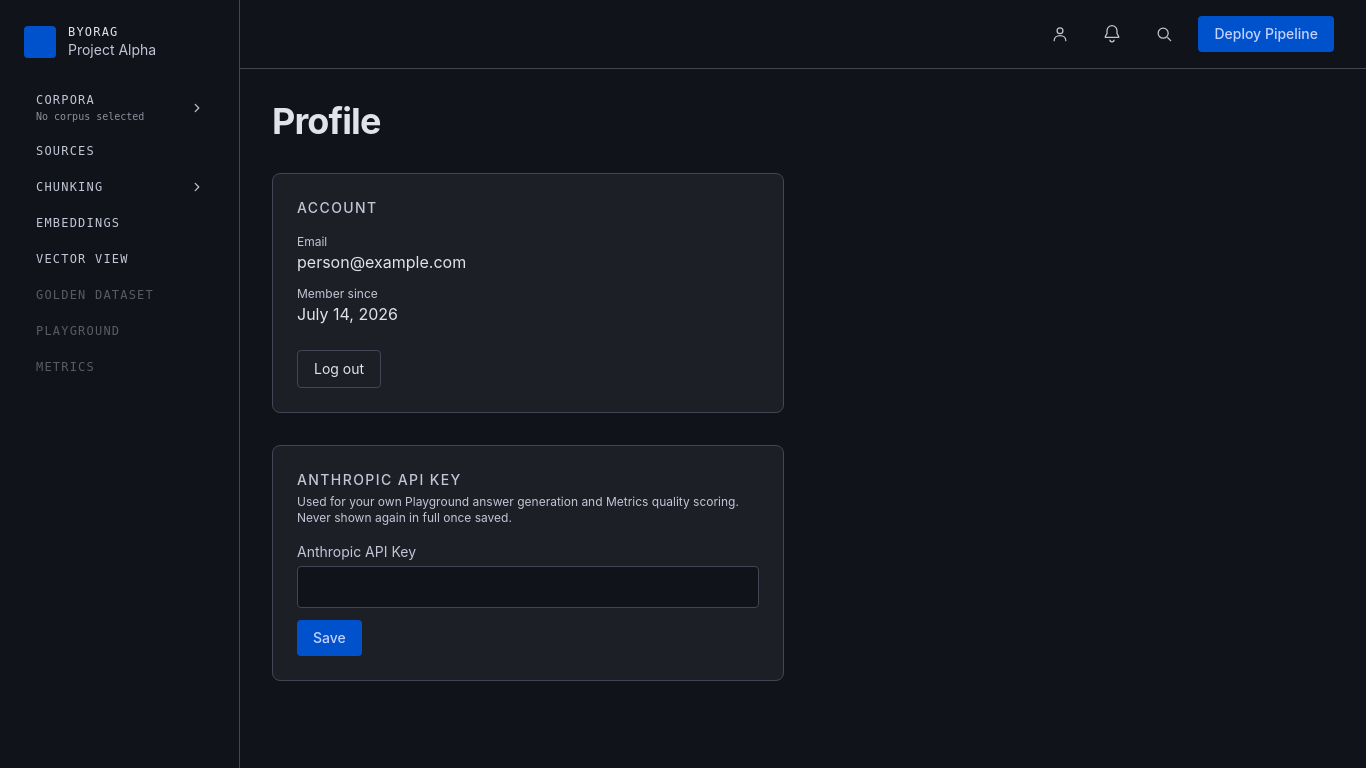
Test: ProfileScreen — Anthropic key form (US2) › shows an inline error and keeps the input on a rejected (invalid) key, without clearing it
Type "sk-ant-badxxxx" into the password field labelled "Anthropic API Key" at [528, 587], box [297,566,759,608]
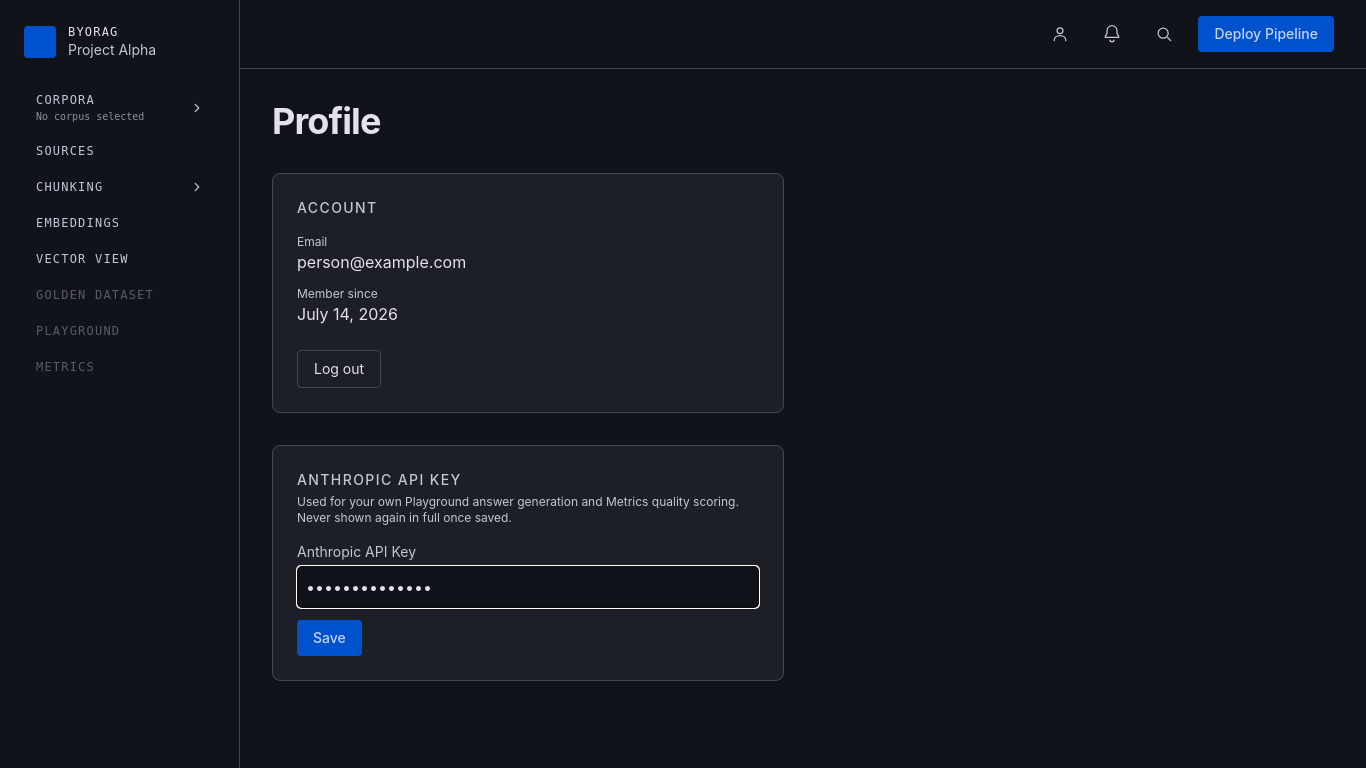
Click the button "Save" at [329, 638], box [297,620,362,656]
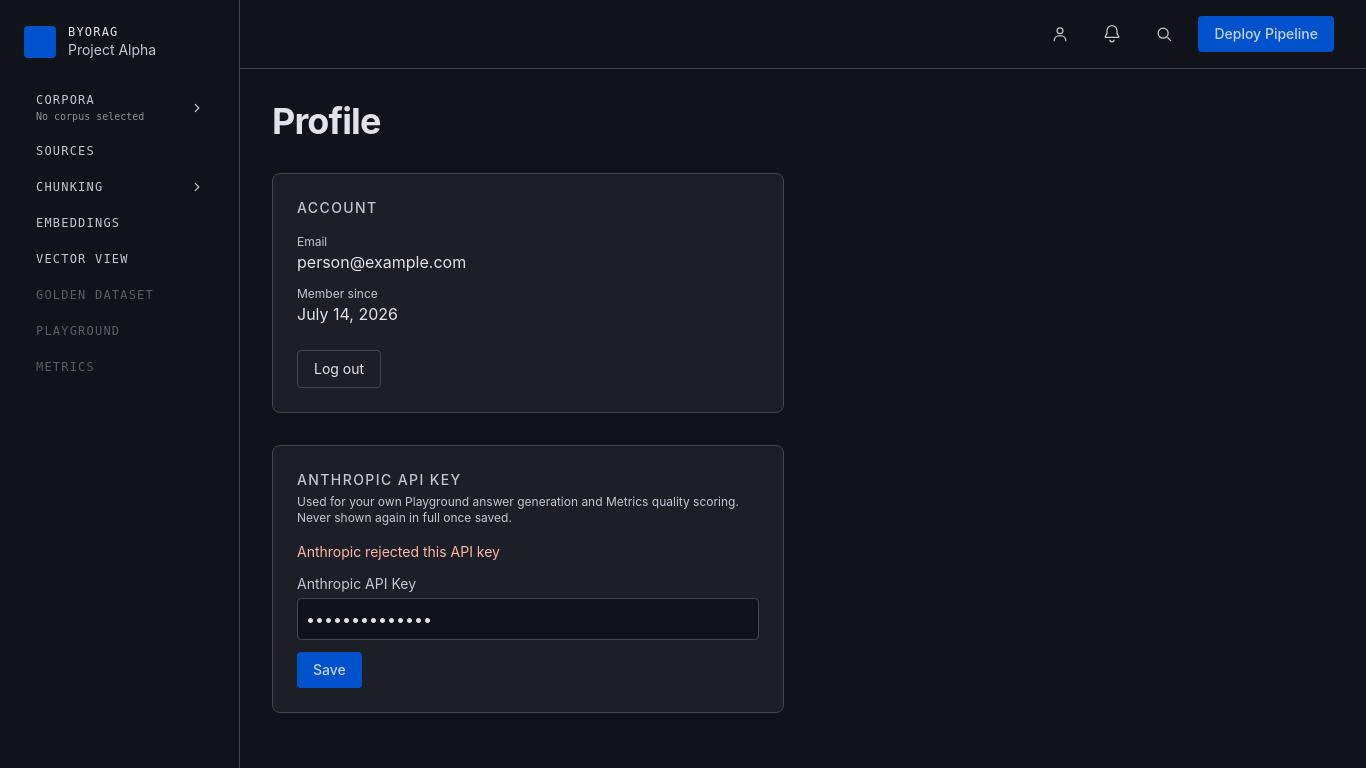
Now the message shows "rejected", box [297,543,500,560]
